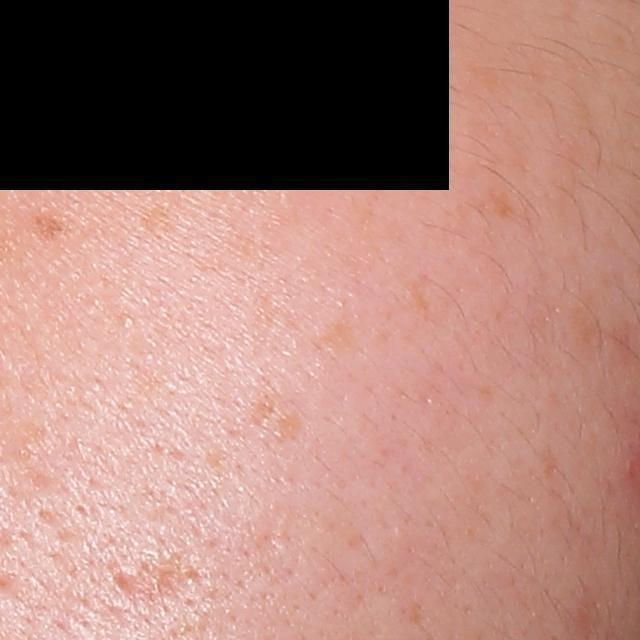atrophic_scar: (112, 556, 192, 610)
melasma: (305, 313, 361, 360), (405, 265, 437, 315), (136, 202, 180, 237), (24, 211, 67, 246), (485, 186, 518, 221)
